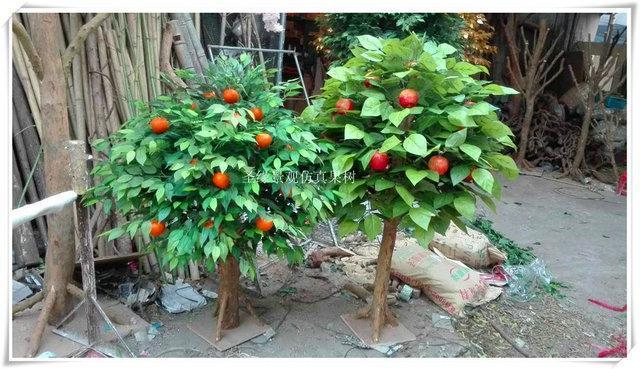apple: (428, 155, 449, 176), (398, 89, 419, 109), (370, 151, 389, 169)
